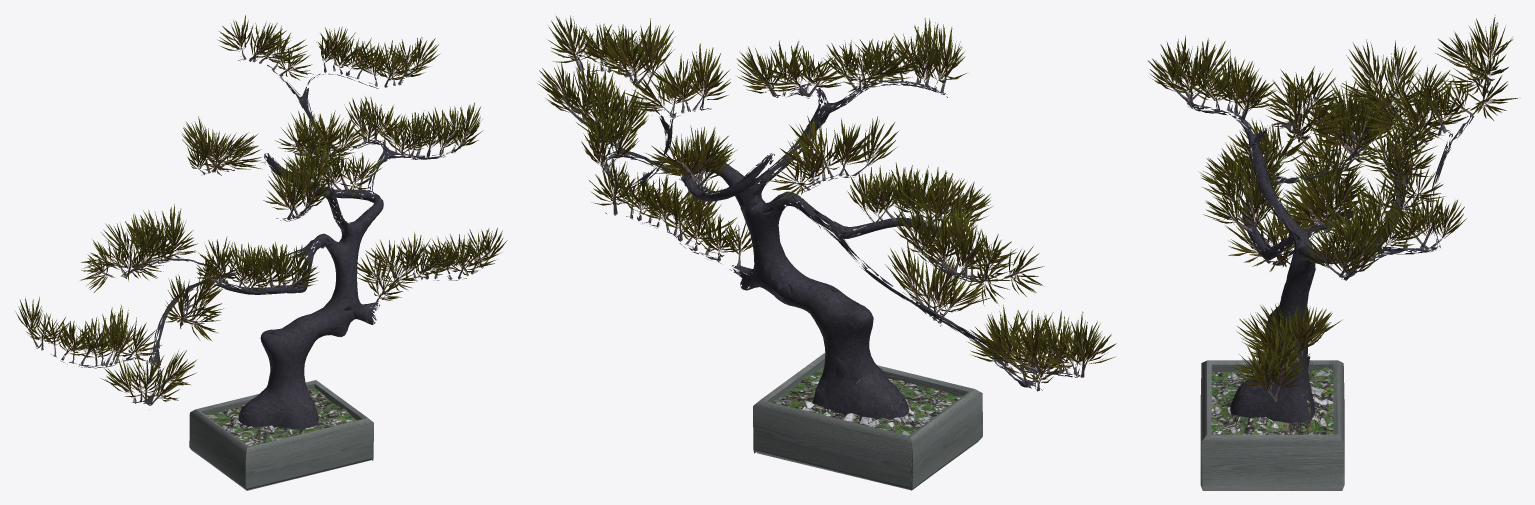
The model's file is pine.glb.
3 views of the same model, side by side, from view 1: azimuth 30°, elevation 25°; view 2: azimuth 150°, elevation 25°; view 3: azimuth 270°, elevation 25° (orthographic). The views are drawn at different scales.
Parts seen in each view (by area): view 1: Object_2; view 2: Object_2; view 3: Object_2.
Boxes of the visible parts, x1,y1,x2,y2 form: Object_2: [15, 15, 507, 490]; Object_2: [537, 15, 1116, 490]; Object_2: [1148, 14, 1517, 490].
Size of the model in its own units: 841 by 635 by 468.
Materials: 5 (5 with a texture image).
